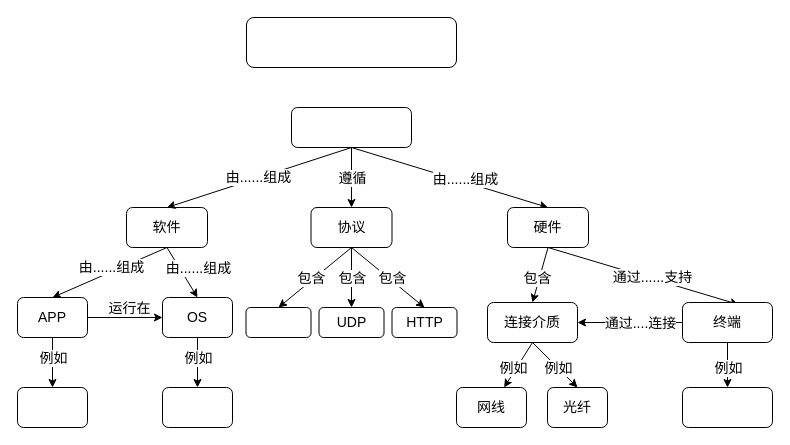
Some shapes in this 790 by 445 pixel diagram are drawn without their labels. Each missing label, with the centre of its shape:
"TCP" goes at point (278, 322).
"Windows" goes at point (197, 407).
"互联网" goes at point (351, 127).
"浏览器" goes at point (52, 407).
"焦点问题：互联网由什么组成？" goes at point (351, 42).
"计算机" goes at point (727, 407).
